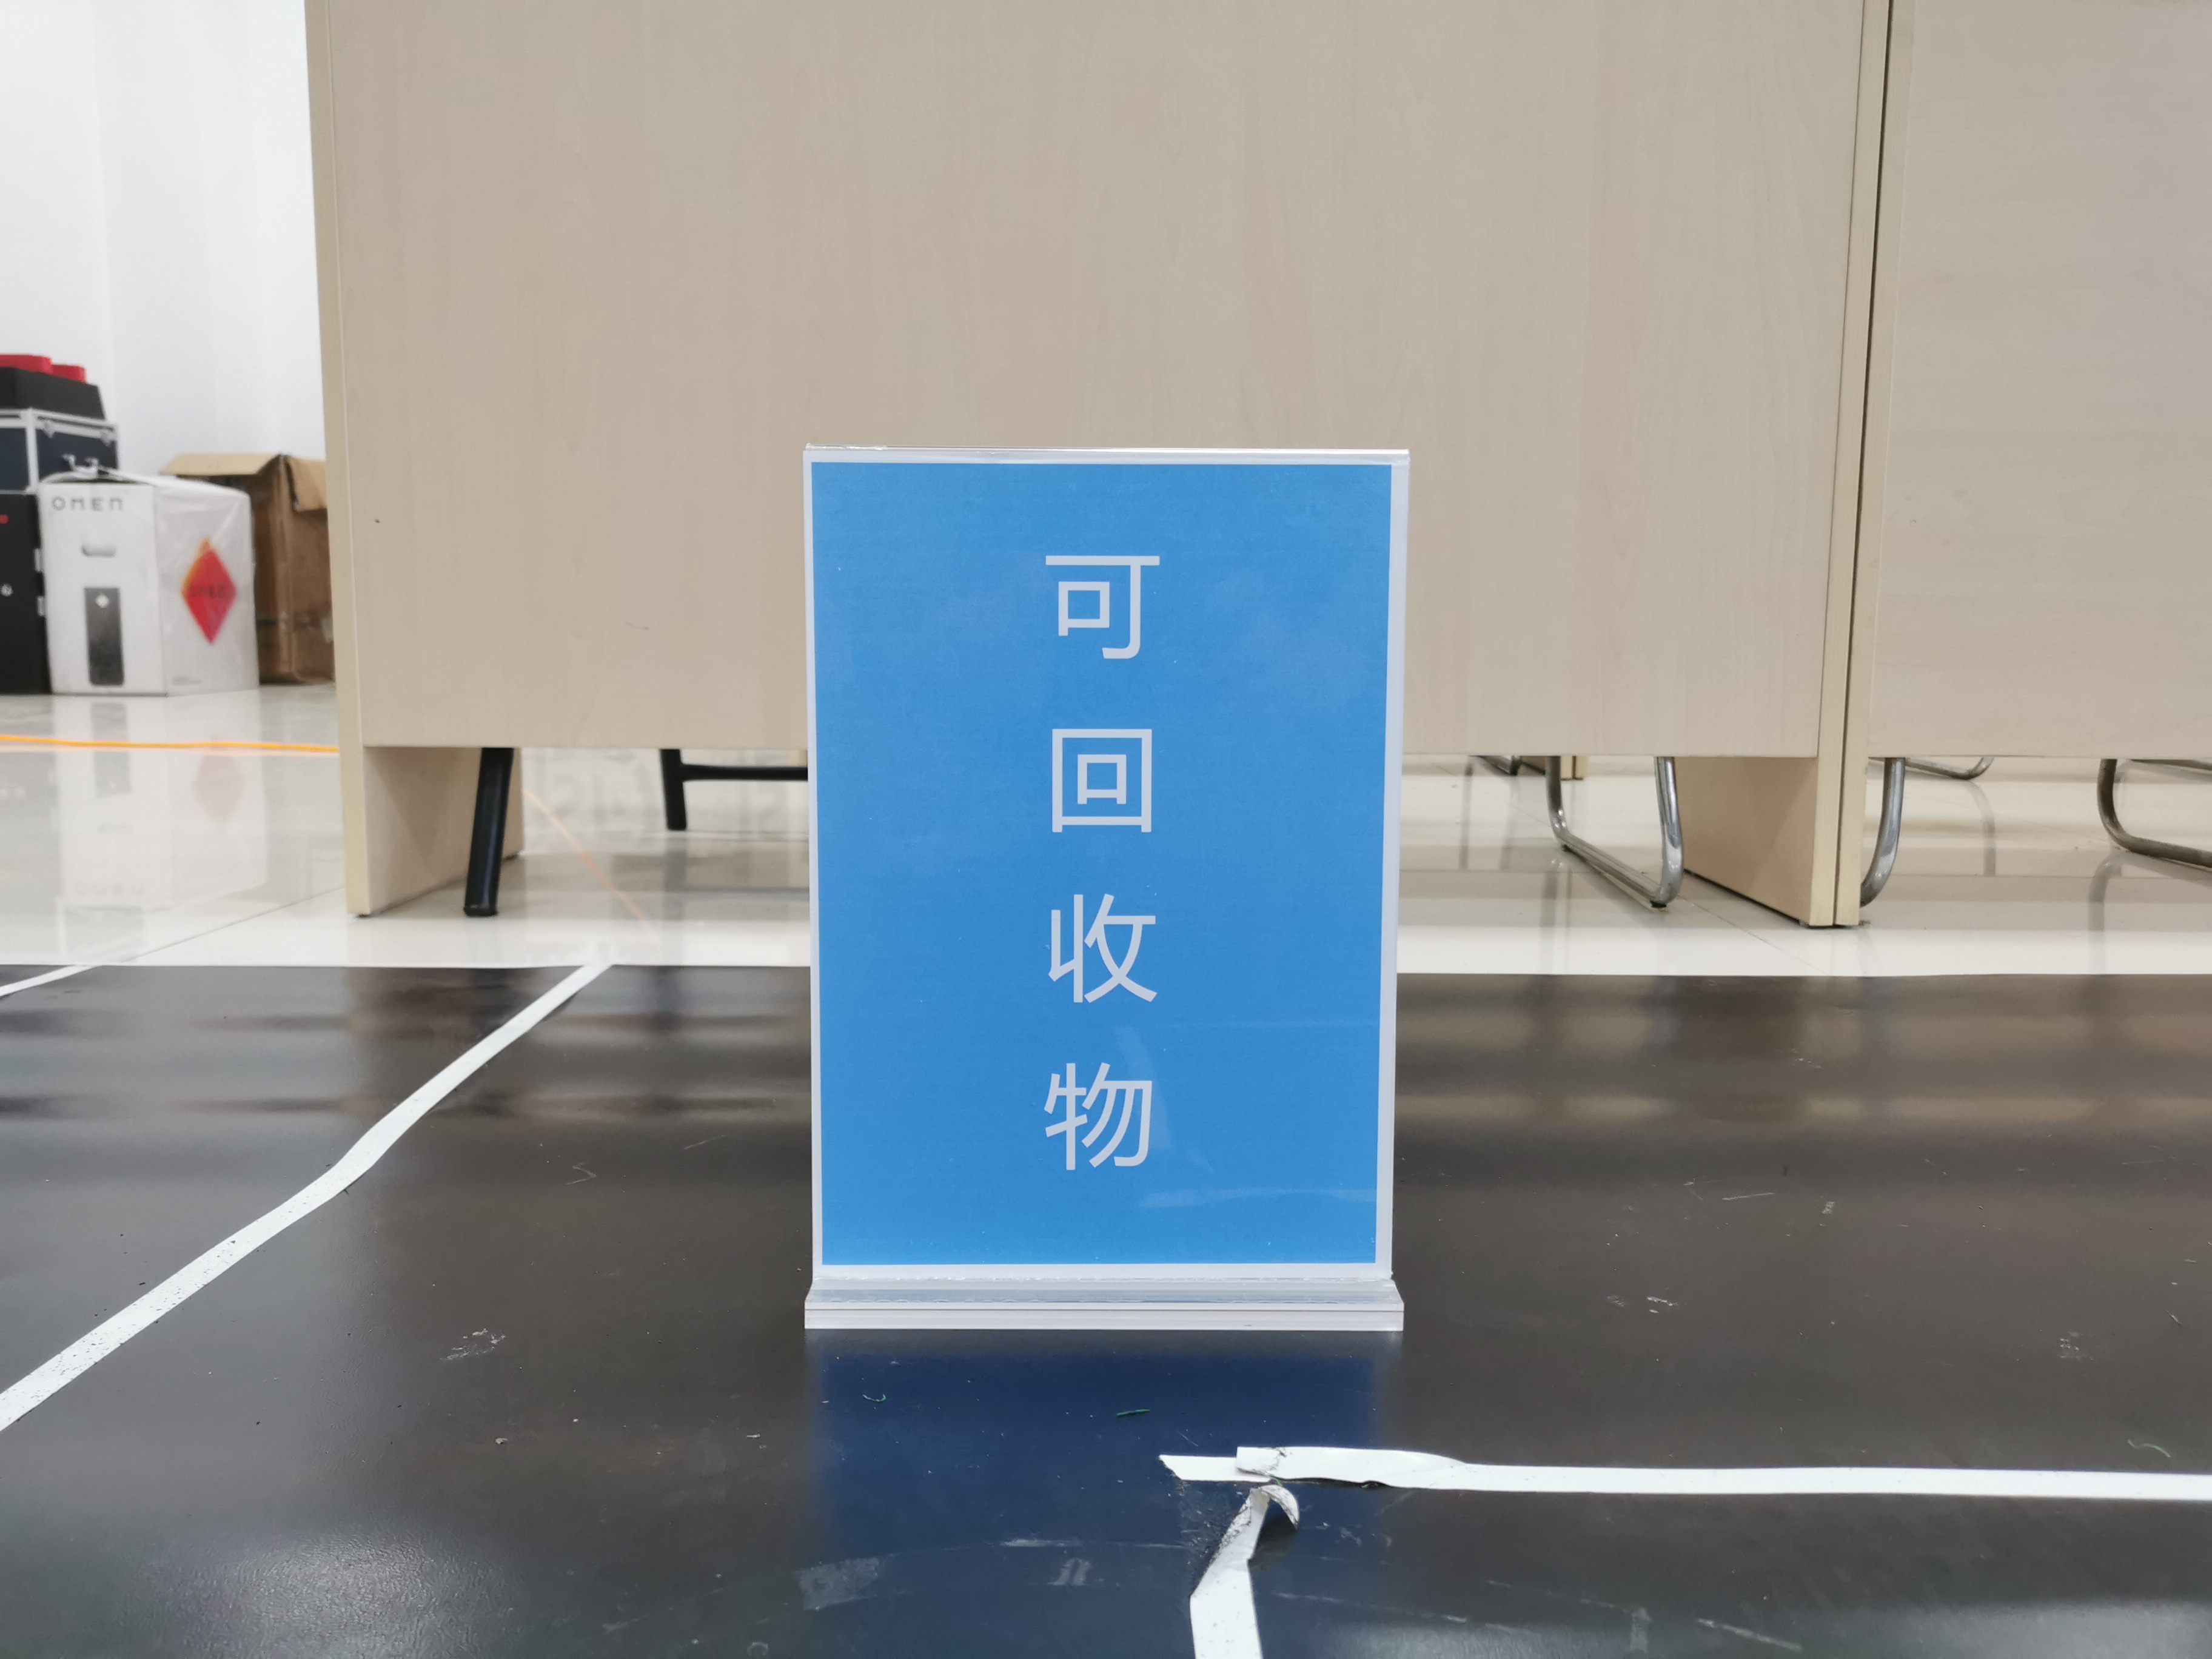blue: (826, 467, 1372, 1263)
